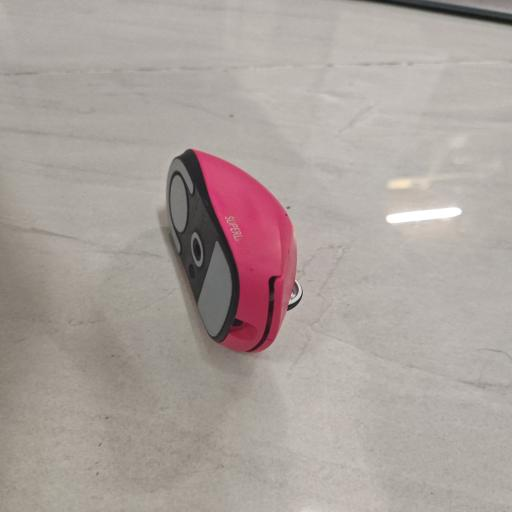mouse: (163, 147, 305, 358)
